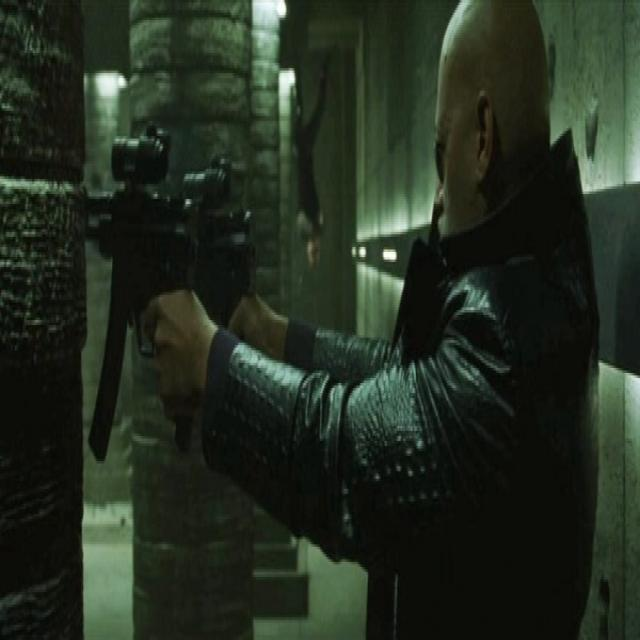rifle: (79, 120, 253, 486)
